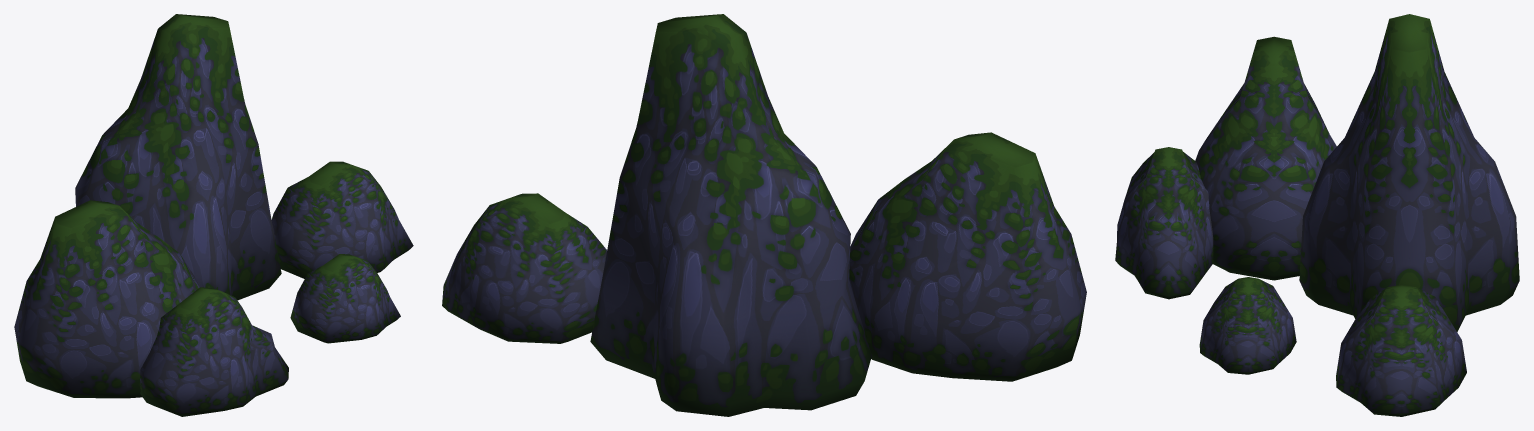
Rendered from Rock_04_Group.FBX.
The picture shows the model from 3 angles, left to right: view 1: azimuth 30°, elevation 25°; view 2: azimuth 150°, elevation 25°; view 3: azimuth 270°, elevation 25°; orthographic projection. The views are drawn at different scales.
Parts seen in each view (by area): view 1: Rock_04_Group; view 2: Rock_04_Group; view 3: Rock_04_Group.
Boxes of the visible parts, x1,y1,x2,y2 form: Rock_04_Group: (14,14,413,416); Rock_04_Group: (442,14,1086,416); Rock_04_Group: (1115,14,1519,416).
Bounding box in the file's own units: 334 × 196 × 246.
